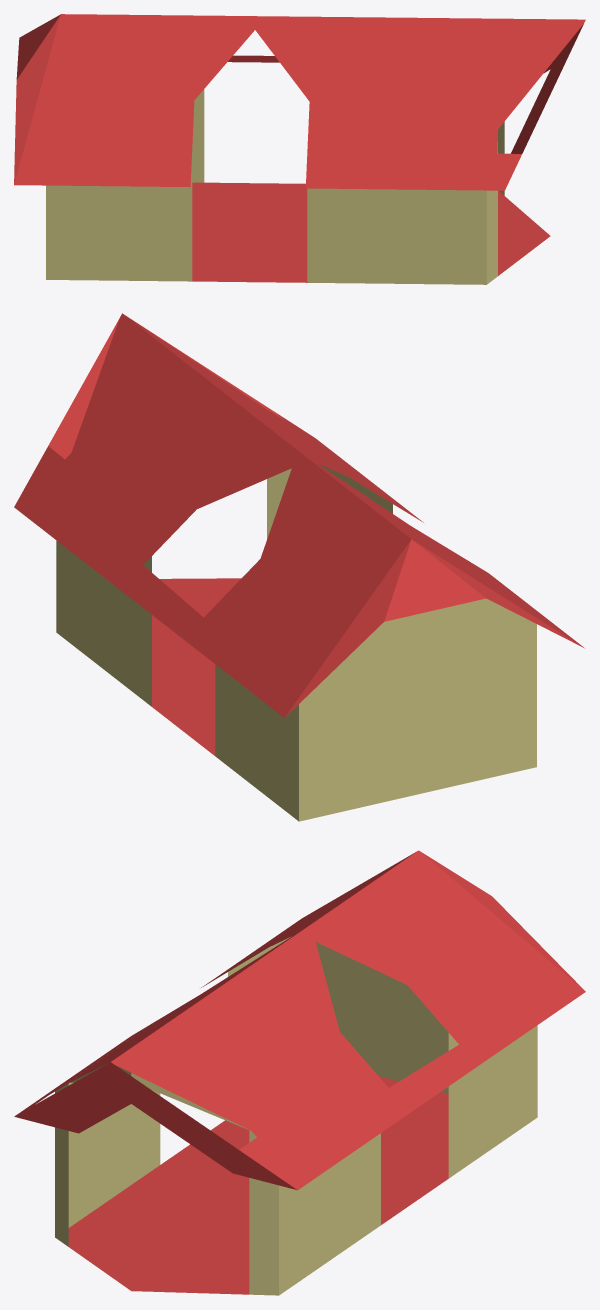
3 views of the same model, one above another, from view 1: azimuth 30°, elevation 25°; view 2: azimuth 150°, elevation 25°; view 3: azimuth 270°, elevation 25° (orthographic). The views are drawn at different scales.
Parts seen in each view (by area): view 1: group_3, group_6, group_7, group_5, group_4; view 2: group_3, group_6, group_5, group_7, group_4; view 3: group_3, group_6, group_7, group_4, group_5.
Boxes of the visible parts, bbox=[...] form: group_3: bbox=[14, 14, 585, 190]; group_6: bbox=[46, 89, 504, 284]; group_7: bbox=[192, 182, 550, 282]; group_5: bbox=[14, 19, 583, 190]; group_4: bbox=[511, 24, 583, 153]; group_3: bbox=[14, 313, 583, 717]; group_6: bbox=[56, 463, 536, 821]; group_5: bbox=[14, 314, 583, 715]; group_7: bbox=[152, 578, 240, 755]; group_4: bbox=[48, 319, 286, 459]; group_3: bbox=[17, 850, 585, 1189]; group_6: bbox=[55, 936, 537, 1295]; group_7: bbox=[68, 1076, 448, 1294]; group_4: bbox=[14, 1062, 297, 1190]; group_5: bbox=[15, 883, 579, 1189].
Size of the model in its own units: 36.69 by 32.6 by 15.3.
